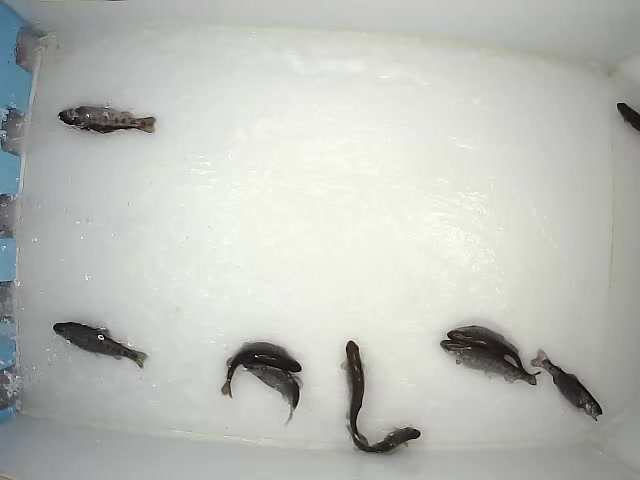fish: (445, 324, 543, 380), (530, 347, 603, 422), (51, 319, 148, 371), (221, 339, 303, 400), (440, 339, 540, 389), (236, 356, 303, 427), (335, 339, 371, 445), (56, 103, 157, 136), (343, 422, 424, 456)
